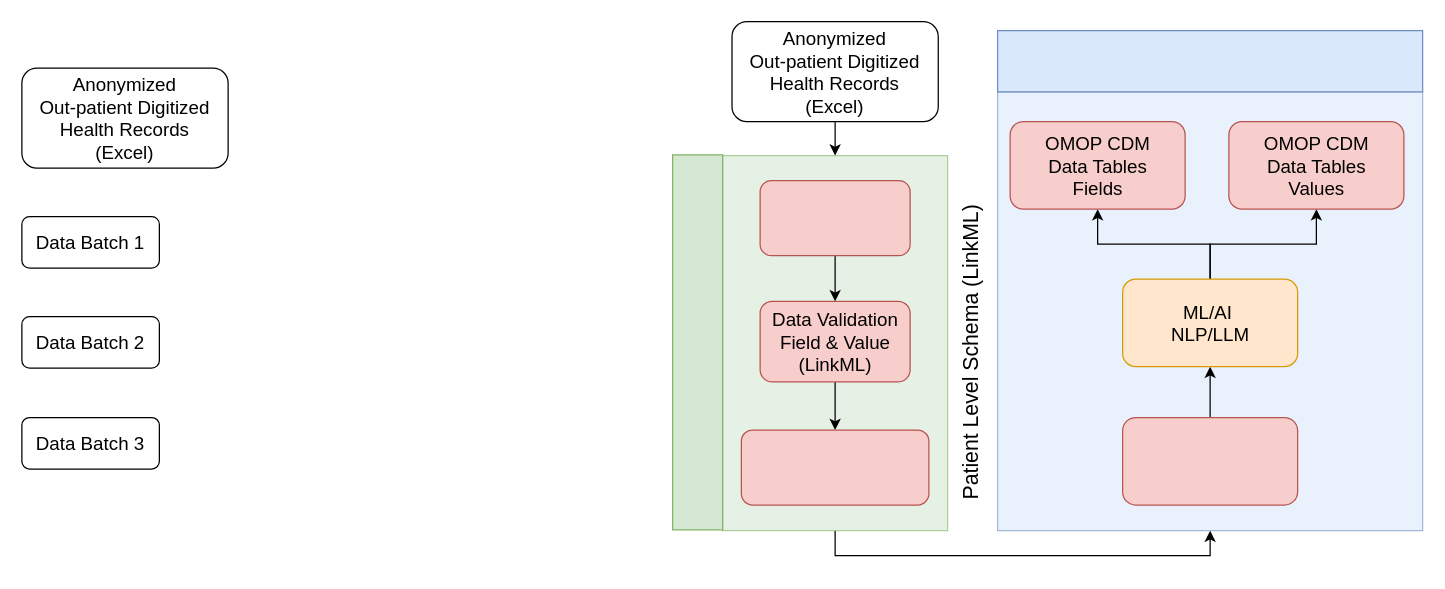
This 1445x589 diagram has some shape labels left out. Each missing label, with the centre of its shape:
"DHR Schema (LinkML)" belongs at point (834, 217).
"Extraction and Mapping from CDM Notes to CDM Data Tables: Fields and Values" belongs at point (1209, 60).
"OMOP CDM Notes Digitized Health Records" belongs at point (1209, 460).
"OMOP CDM Schema Data Table (LinkML)" belongs at point (834, 467).
"Raw Field Level Mapping" belongs at point (697, 342).
